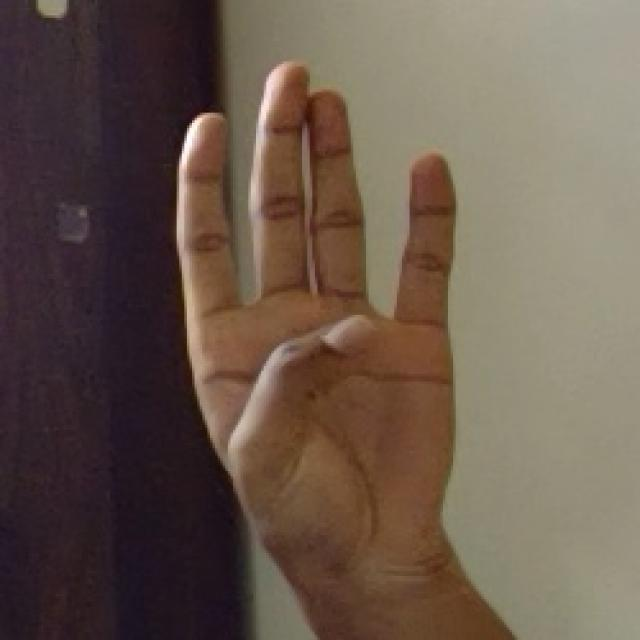Numeric-4: (173, 52, 452, 546)
